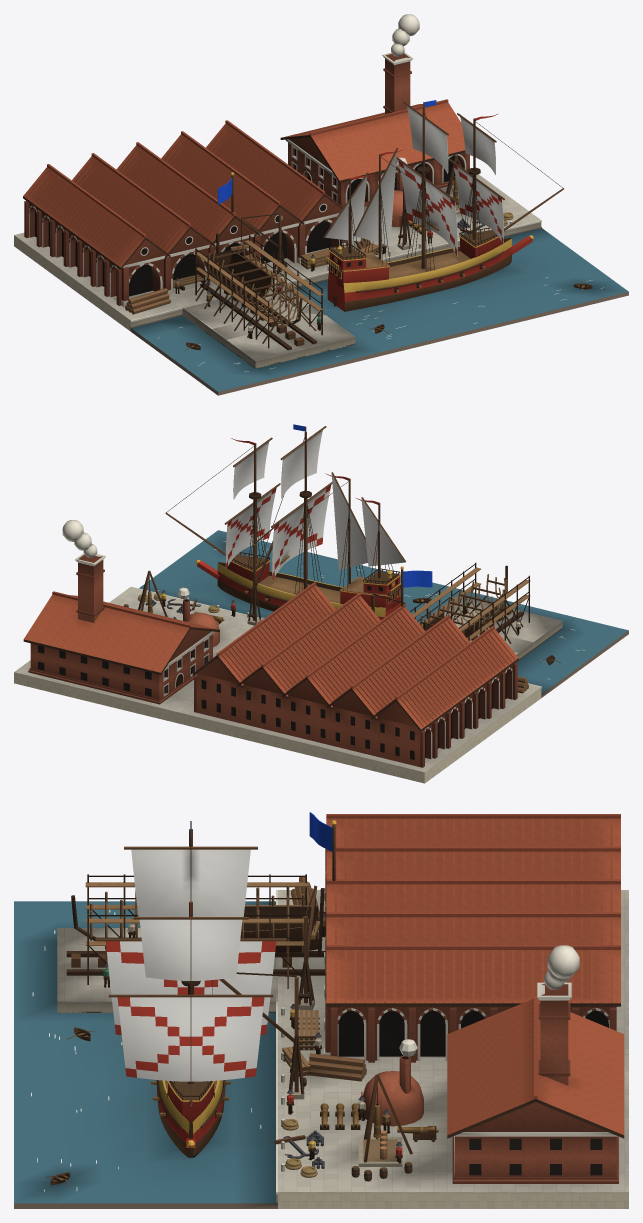
The model's file is lm_armada.glb.
3 renders of one model, top to bottom at view 1: azimuth 30°, elevation 25°; view 2: azimuth 150°, elevation 25°; view 3: azimuth 270°, elevation 25°, orthographic. The views are drawn at different scales.
Visible parts, largest first — view 1: lm_armada; view 2: lm_armada; view 3: lm_armada.
Boxes of the visible parts, left/top/right/bottom form: lm_armada: left=14, top=14, right=628, bottom=395; lm_armada: left=14, top=424, right=628, bottom=783; lm_armada: left=14, top=812, right=628, bottom=1208.
Size of the model in its own units: 2.3 by 1.07 by 1.98.
1 material, 1 textured.
